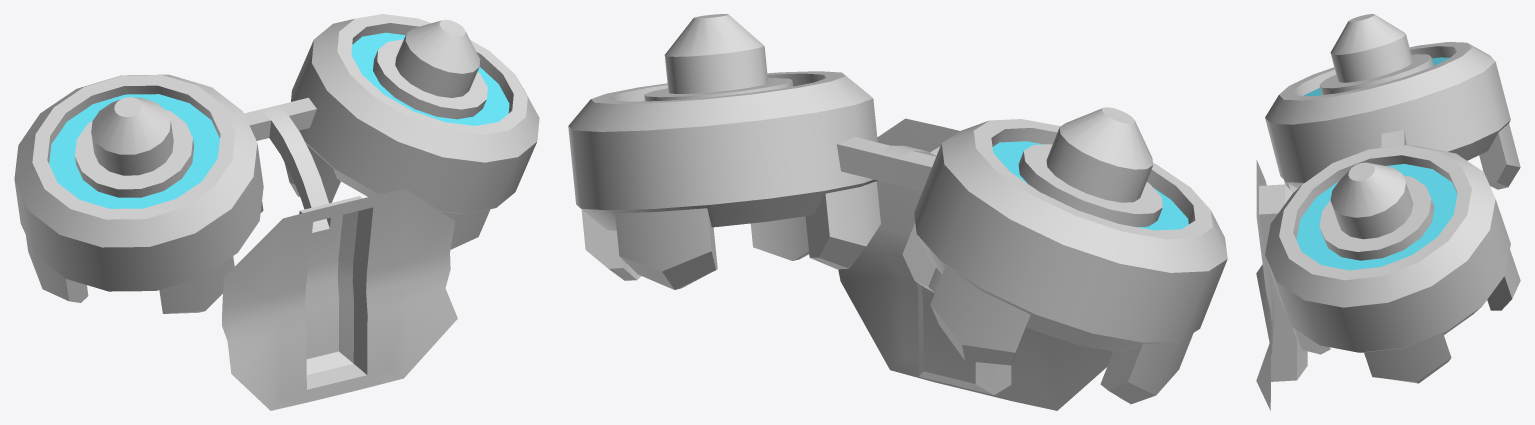
Rendered from Mod_Backplate_Yuri3.fbx.
3 views of the same model, side by side, from view 1: azimuth 30°, elevation 25°; view 2: azimuth 150°, elevation 25°; view 3: azimuth 270°, elevation 25° (orthographic). The views are drawn at different scales.
Parts seen in each view (by area): view 1: Mod_BackPlate_Yuri3; view 2: Mod_BackPlate_Yuri3; view 3: Mod_BackPlate_Yuri3.
Part boxes in pixels (left/top/right/bottom): Mod_BackPlate_Yuri3: left=14, top=14, right=539, bottom=410; Mod_BackPlate_Yuri3: left=568, top=14, right=1227, bottom=410; Mod_BackPlate_Yuri3: left=1256, top=14, right=1520, bottom=410.
Size of the model in its own units: 698 by 402 by 332.
